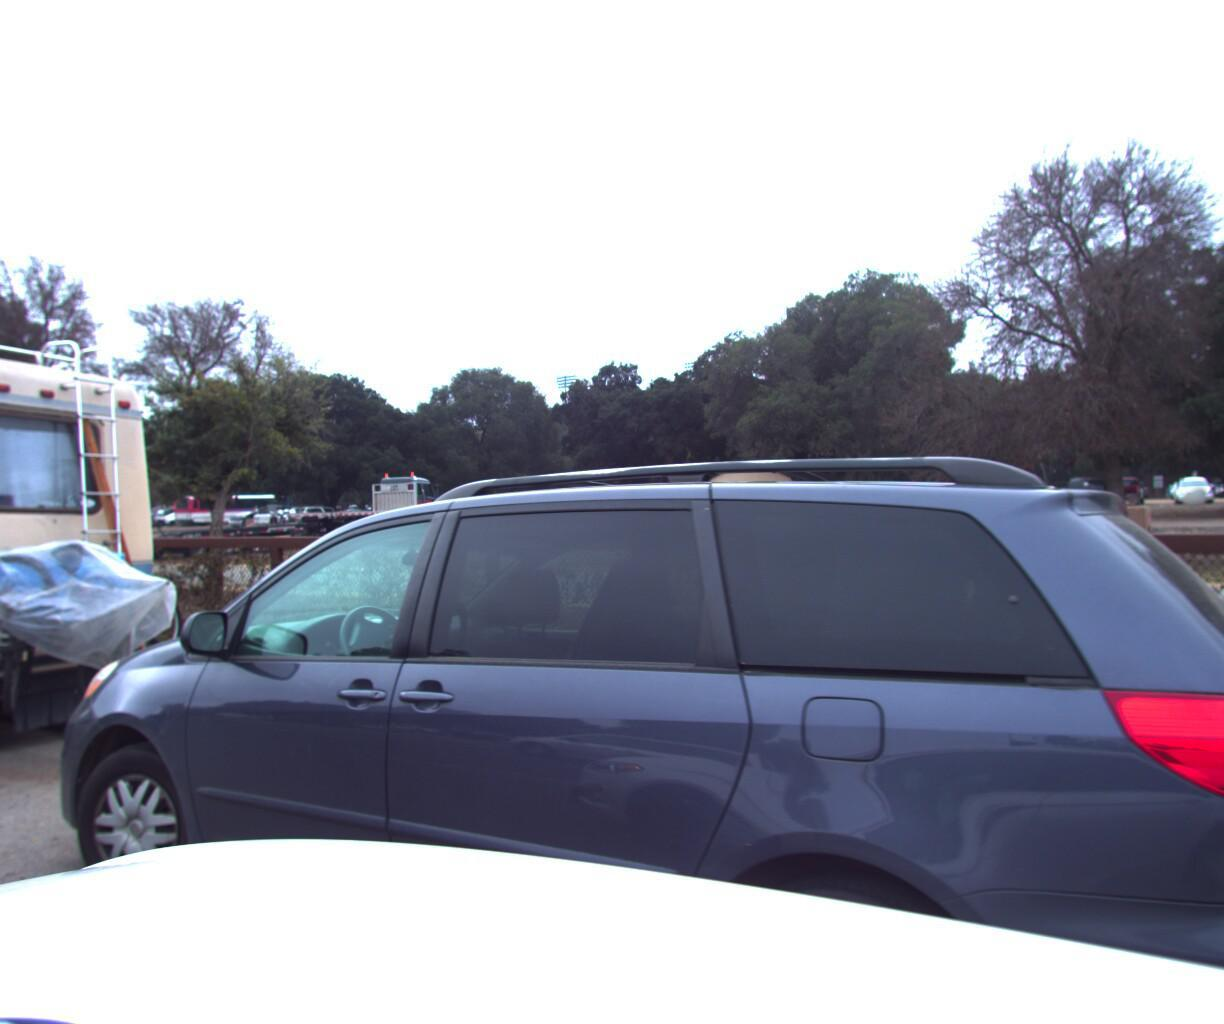car: (0, 397, 1224, 1024)
other_vehicle: (0, 270, 236, 820)
